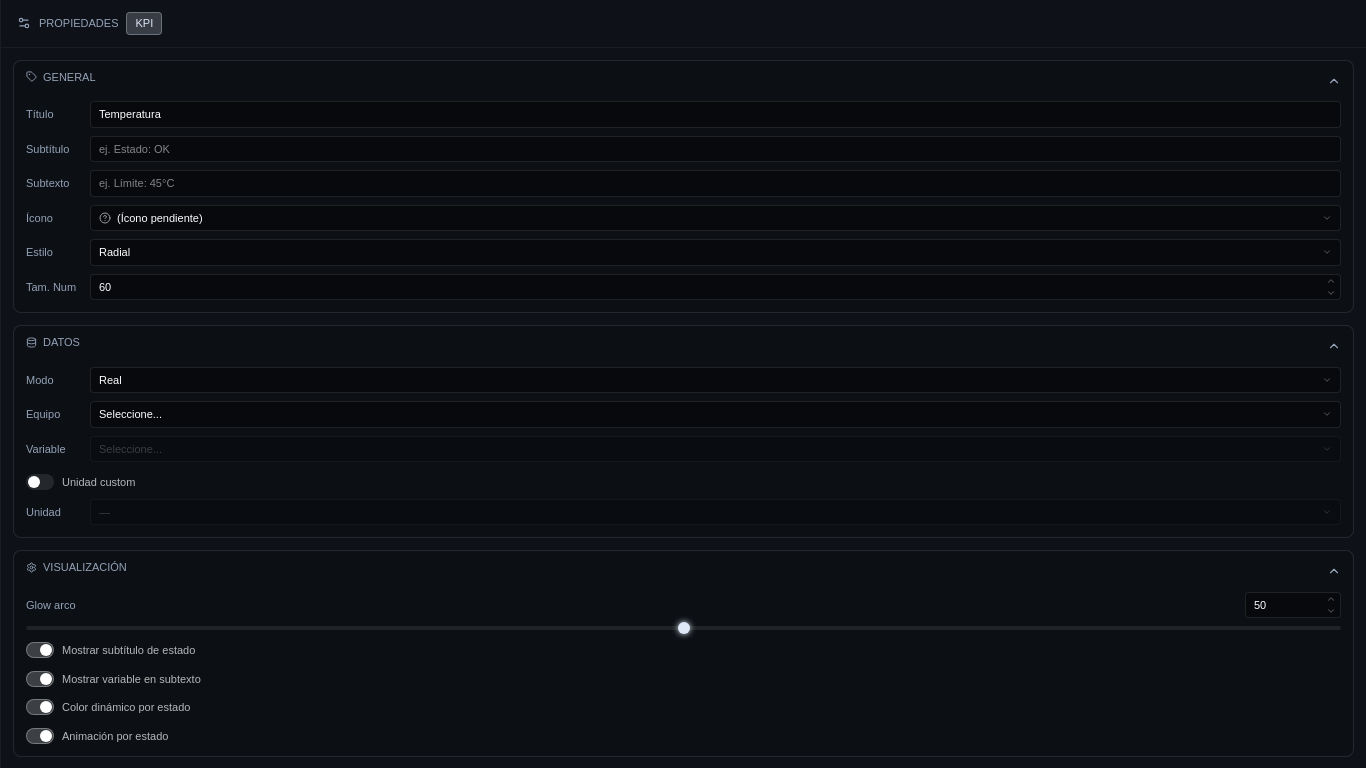
it: PropertyDock Node-RED binding › renders Node-RED machine names when machines are available
This screenshot has width=1366, height=768.
Click the button "Seleccione..." next to "Equipo": {"x": 130, "y": 414} [90,401,1341,428]
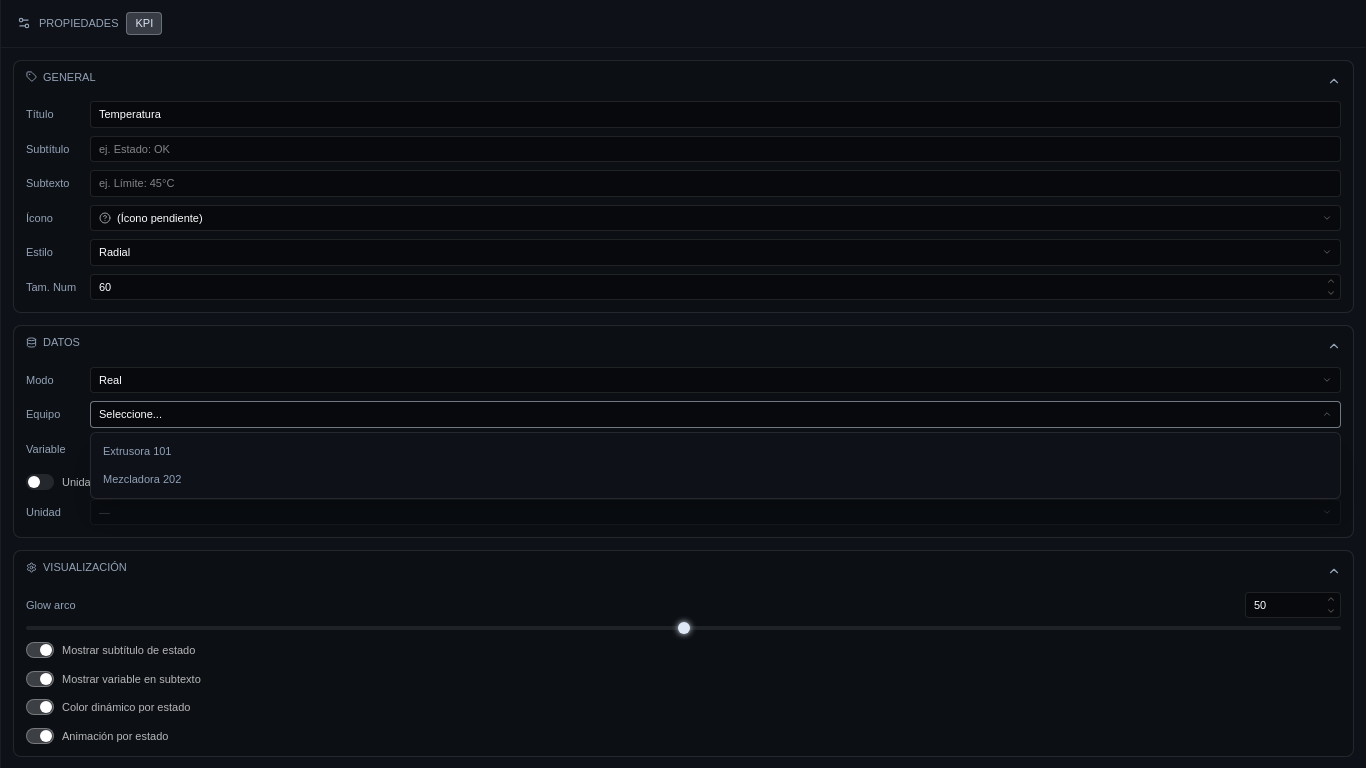
Expected: the button "Extrusora 101" is shown, [91,436,1340,465]
Expected: the button "Mezcladora 202" is shown, [91,465,1340,494]
